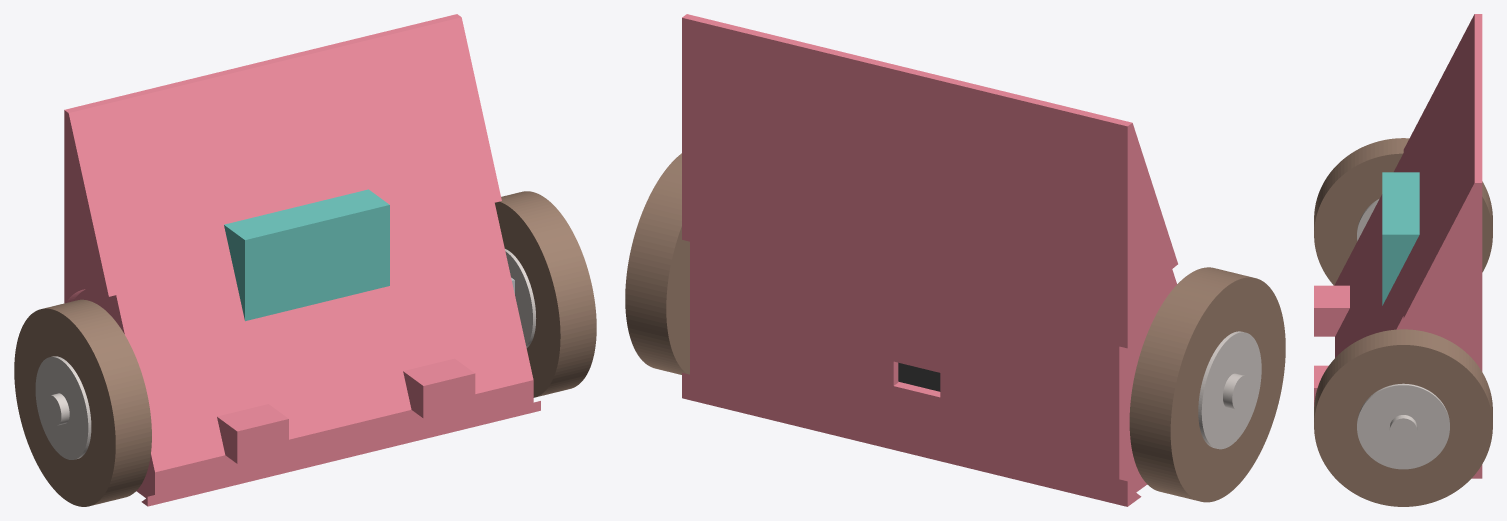
File: goobers.glb
3 views of the same model, side by side, from view 1: azimuth 30°, elevation 25°; view 2: azimuth 150°, elevation 25°; view 3: azimuth 270°, elevation 25° (orthographic). The views are drawn at different scales.
Parts seen in each view (by area): view 1: chassis, wheel_r0, el_battery, wheel_l0, dt_hub_wheel_r0, ear_l, ear_r, dt_hub_wheel_l0; view 2: chassis, wheel_r0, wheel_l0, dt_hub_wheel_r0, el_switch; view 3: chassis, wheel_l0, wheel_r0, dt_hub_wheel_l0, el_battery, ear_r, dt_hub_wheel_r0, ear_l.
Boxes of the visible parts, left/top/right/bottom form: chassis: left=64, top=14, right=540, bottom=506; wheel_r0: left=14, top=299, right=151, bottom=506; el_battery: left=224, top=189, right=389, bottom=321; wheel_l0: left=495, top=191, right=596, bottom=397; dt_hub_wheel_r0: left=35, top=356, right=91, bottom=459; ear_l: left=403, top=358, right=475, bottom=418; ear_r: left=217, top=404, right=288, bottom=463; dt_hub_wheel_l0: left=505, top=249, right=536, bottom=347; chassis: left=682, top=14, right=1177, bottom=506; wheel_r0: left=1129, top=267, right=1285, bottom=502; wheel_l0: left=625, top=153, right=689, bottom=374; dt_hub_wheel_r0: left=1198, top=331, right=1261, bottom=449; el_switch: left=898, top=362, right=940, bottom=391; chassis: left=1335, top=14, right=1482, bottom=478; wheel_l0: left=1314, top=329, right=1492, bottom=506; wheel_r0: left=1314, top=138, right=1492, bottom=285; dt_hub_wheel_l0: left=1357, top=383, right=1449, bottom=469; el_battery: left=1382, top=172, right=1419, bottom=305; ear_r: left=1314, top=285, right=1349, bottom=336; dt_hub_wheel_r0: left=1357, top=199, right=1379, bottom=240; ear_l: left=1314, top=365, right=1328, bottom=406.
Bounding box in the file's own units: 97.4 × 63.99 × 34.
